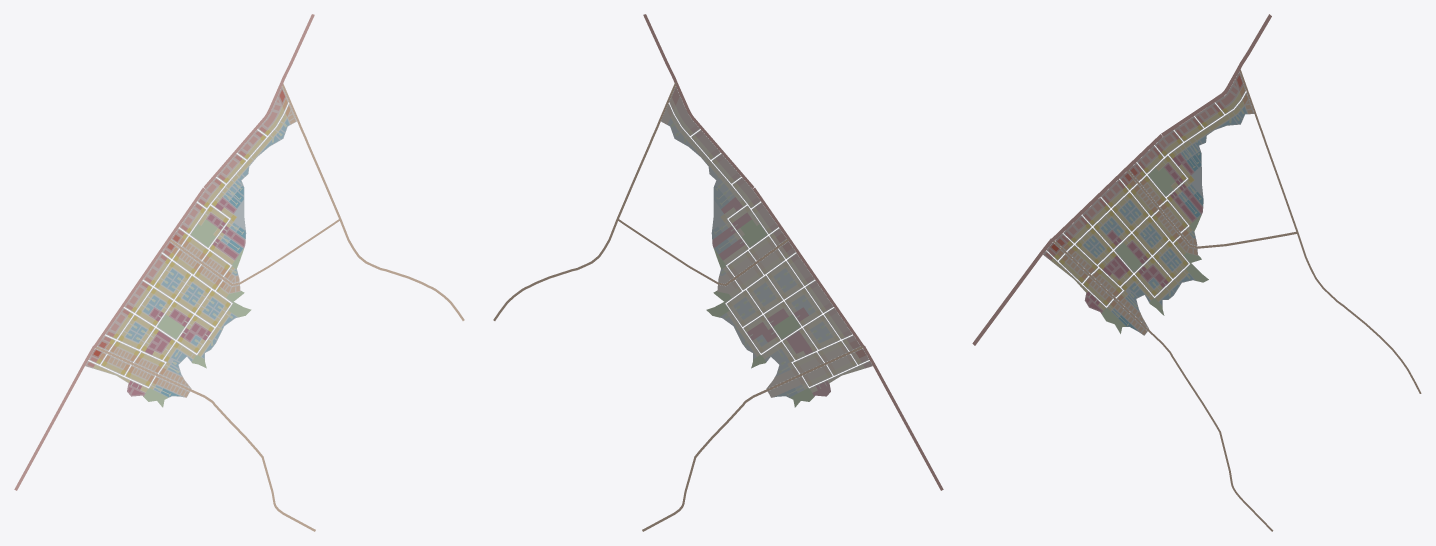
Rendered from footprint.gltf.
3 renders of one model, left to right at view 1: azimuth 30°, elevation 25°; view 2: azimuth 150°, elevation 25°; view 3: azimuth 330°, elevation 25°, orthographic.
Visible parts, largest first — view 1: obj_tri; view 2: obj_tri; view 3: obj_tri.
Part boxes in pixels (x1,y1,x2,y2): obj_tri: (14, 14, 464, 531); obj_tri: (493, 14, 943, 531); obj_tri: (972, 14, 1421, 531).
Size of the model in its own units: 2146 by 2361 by 0.2.
